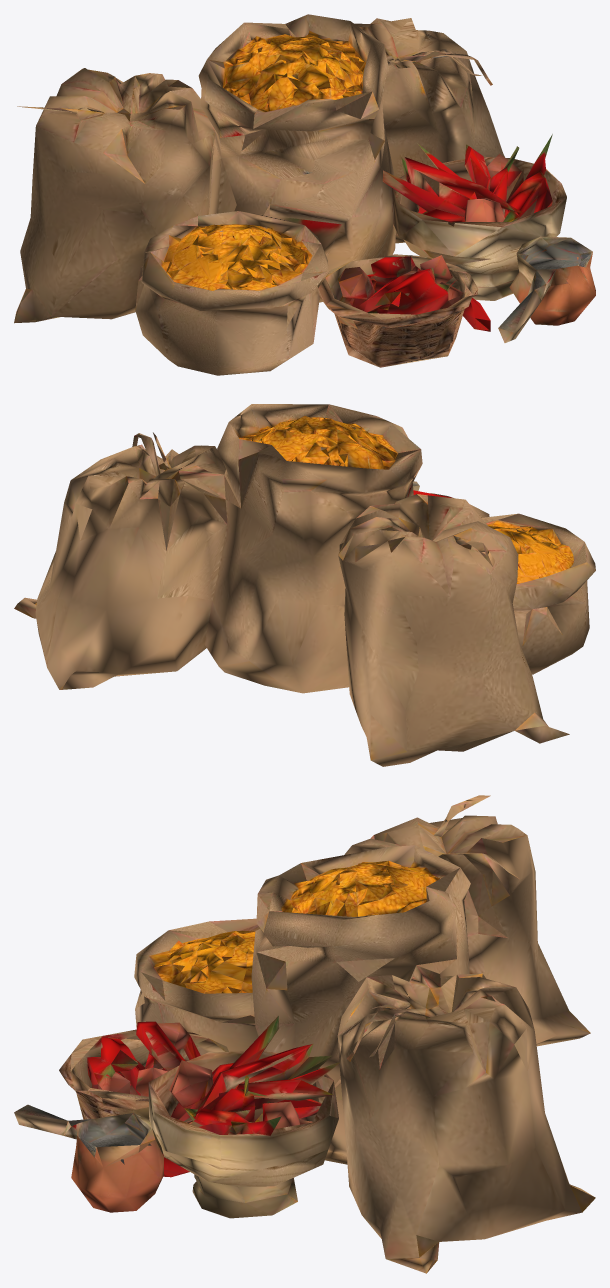
The model's file is la_sacks.glb.
The picture shows the model from 3 angles, top to bottom: view 1: azimuth 30°, elevation 25°; view 2: azimuth 150°, elevation 25°; view 3: azimuth 270°, elevation 25°; orthographic projection. The views are drawn at different scales.
Parts seen in each view (by area): view 1: la_sacks; view 2: la_sacks; view 3: la_sacks.
Part boxes in pixels (x1,y1,x2,y2): la_sacks: (14,14,595,375); la_sacks: (14,404,595,766); la_sacks: (14,795,595,1273).
Bounding box in the file's own units: 1.39 × 0.5704 × 1.17.
1 material, 1 textured.
